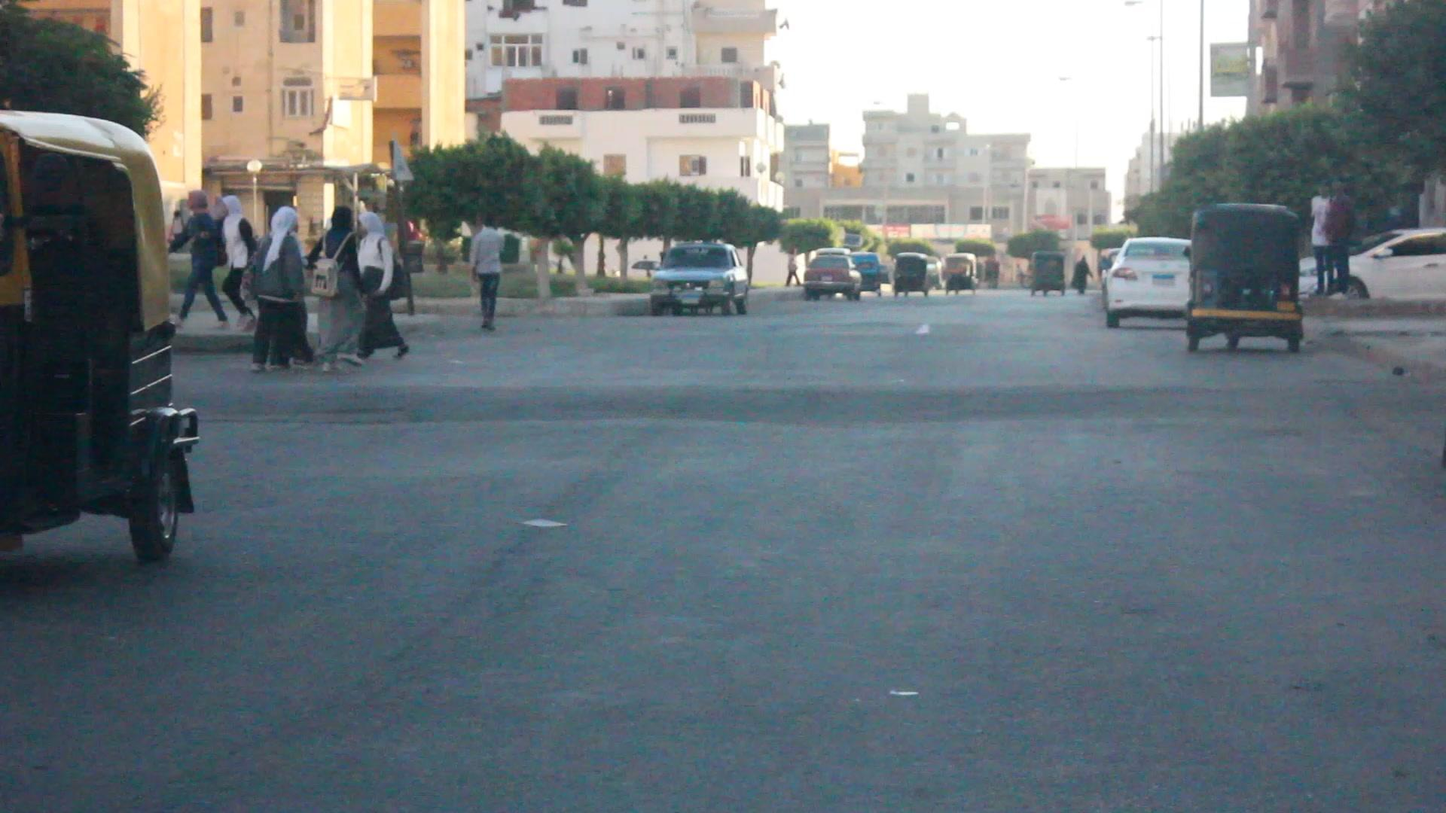Bump: (194, 365, 1446, 433)
